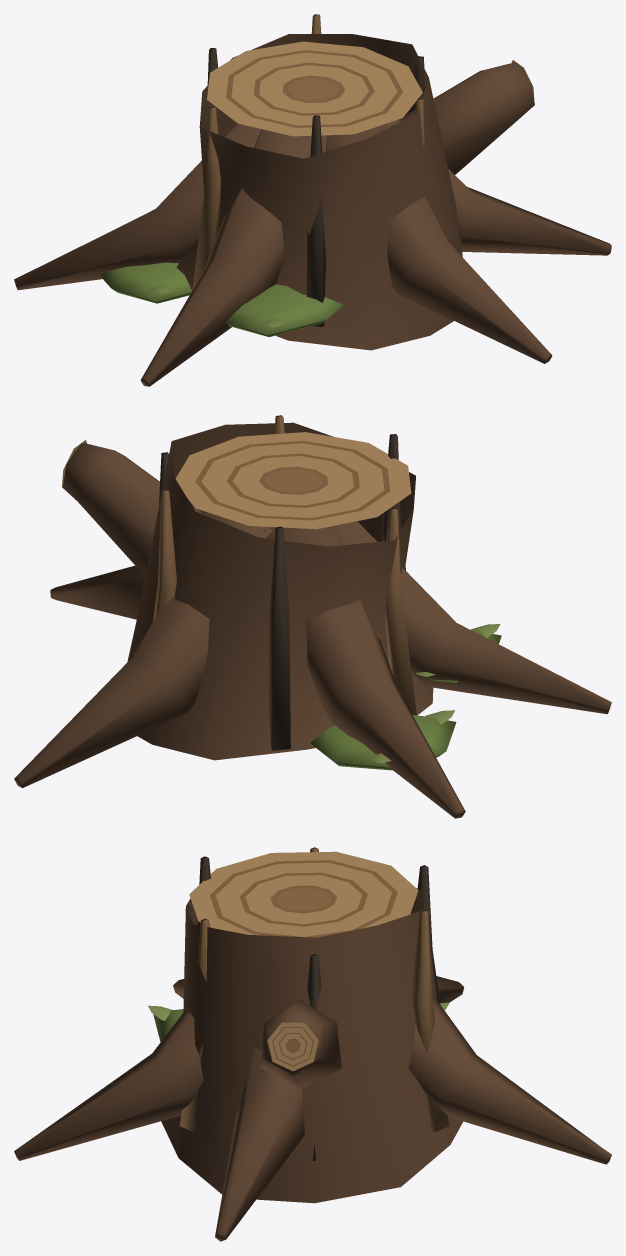
File: woodland_stump_rings.glb
3 renders of one model, top to bottom at view 1: azimuth 30°, elevation 25°; view 2: azimuth 150°, elevation 25°; view 3: azimuth 270°, elevation 25°, orthographic. The views are drawn at different scales.
Visible parts, largest first — view 1: body; view 2: body; view 3: body.
Boxes of the visible parts, x1,y1,x2,y2 form: body: [14, 14, 611, 386]; body: [14, 415, 611, 818]; body: [14, 847, 611, 1241].
Bounding box in the file's own units: 1.11 × 0.523 × 1.11.
